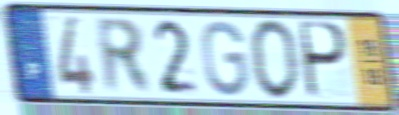2: (152, 17, 200, 98)
4: (55, 13, 97, 97)
G: (200, 18, 250, 99)
O: (248, 17, 302, 103)
P: (299, 18, 351, 102)
R: (92, 14, 155, 96)
